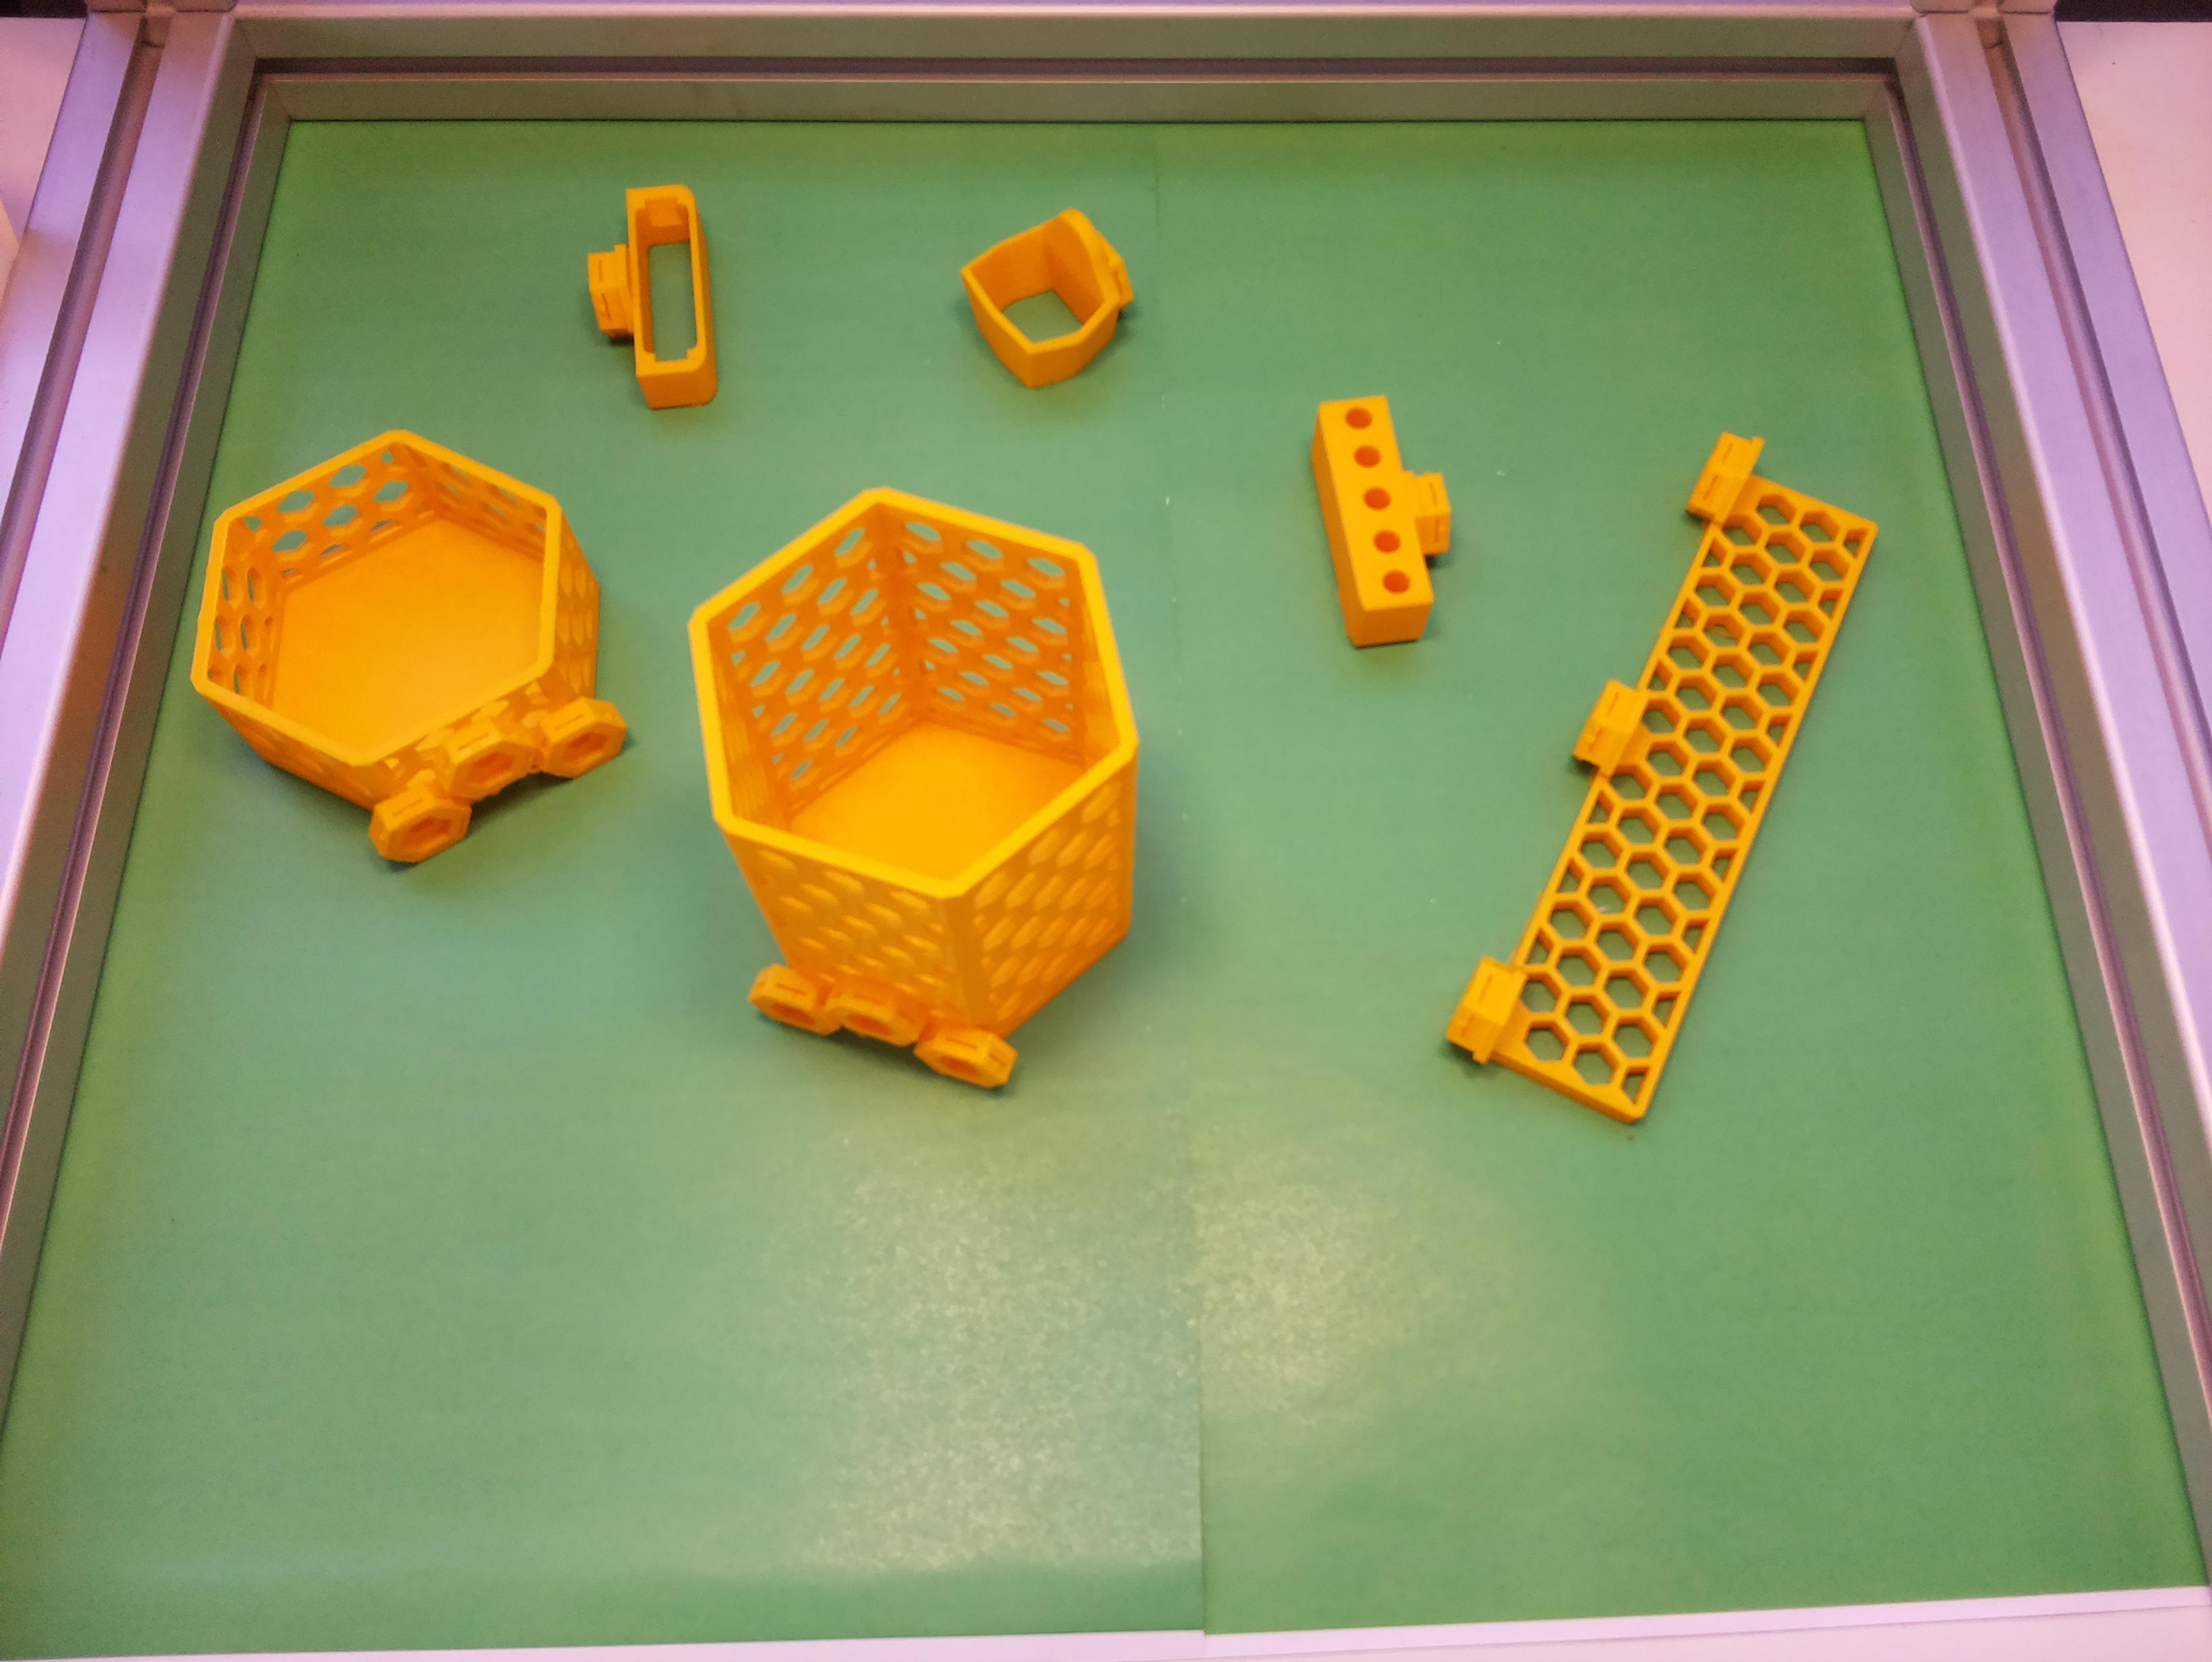bit_holder: (1301, 384, 1470, 651)
bottle_holder: (131, 374, 674, 915)
cup_holder: (648, 445, 1203, 1133)
cutter_holder: (583, 183, 719, 412)
scissor_holder: (946, 194, 1159, 403)
tool_holder: (1439, 412, 1893, 1128)
